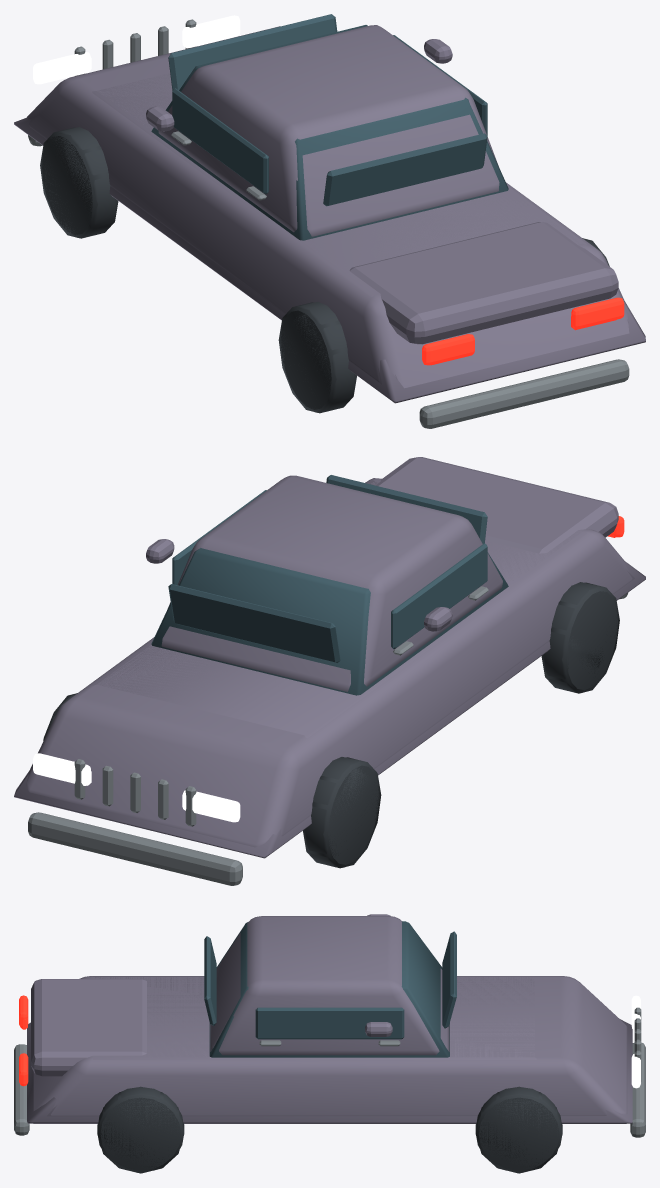
File: executive_sedan.glb
3 renders of one model, top to bottom at view 1: azimuth 30°, elevation 25°; view 2: azimuth 150°, elevation 25°; view 3: azimuth 270°, elevation 25°, orthographic. The views are drawn at different scales.
Visible parts, largest first — view 1: LOD0_executive_sedan_LowerBody, LOD0_executive_sedan_Cabin, LOD0_executive_sedan_Trunk, LOD1_executive_sedan_Body, LOD2_executive_sedan_Body, LOD2_executive_sedan_Upper, LOD0_executive_sedan_Wheel_RL, LOD0_executive_sedan_RearGlass, LOD0_executive_sedan_Wheel_FL, LOD0_executive_sedan_RearBumper, LOD0_executive_sedan_SideGlass_L, LOD0_executive_sedan_Windshield (+6 smaller); view 2: LOD0_executive_sedan_LowerBody, LOD0_executive_sedan_Cabin, LOD1_executive_sedan_Body, LOD2_executive_sedan_Upper, LOD0_executive_sedan_Trunk, LOD0_executive_sedan_Windshield, LOD0_executive_sedan_FrontBumper, LOD0_executive_sedan_Wheel_RL, LOD0_executive_sedan_Wheel_FL, LOD2_executive_sedan_Body, LOD0_executive_sedan_SideGlass_L, LOD1_executive_sedan_Wheel_FL (+5 smaller); view 3: LOD0_executive_sedan_LowerBody, LOD0_executive_sedan_Cabin, LOD0_executive_sedan_Trunk, LOD1_executive_sedan_Body, LOD0_executive_sedan_Wheel_FR, LOD0_executive_sedan_Wheel_RR, LOD2_executive_sedan_Upper, LOD2_executive_sedan_Body, LOD0_executive_sedan_SideGlass_R, LOD1_executive_sedan_Wheel_RR, LOD1_executive_sedan_Wheel_FR, LOD0_executive_sedan_Windshield (+4 smaller).
Boxes of the visible parts, x1,y1,x2,y2 form: LOD0_executive_sedan_LowerBody: (27,26,629,388); LOD0_executive_sedan_Cabin: (158,25,499,236); LOD0_executive_sedan_Trunk: (349,222,618,344); LOD1_executive_sedan_Body: (30,73,628,384); LOD2_executive_sedan_Body: (14,117,645,403); LOD2_executive_sedan_Upper: (151,25,508,240); LOD0_executive_sedan_Wheel_RL: (280,302,354,411); LOD0_executive_sedan_RearGlass: (323,133,487,206); LOD0_executive_sedan_Wheel_FL: (42,127,116,236); LOD0_executive_sedan_RearBumper: (419,359,629,428); LOD0_executive_sedan_SideGlass_L: (172,88,268,194); LOD0_executive_sedan_Windshield: (168,14,337,90); LOD0_executive_sedan_LowerBody: (26,478,632,847); LOD0_executive_sedan_Cabin: (161,475,502,691); LOD1_executive_sedan_Body: (92,480,634,835); LOD2_executive_sedan_Upper: (151,548,508,695); LOD0_executive_sedan_Trunk: (375,457,618,553); LOD0_executive_sedan_Windshield: (168,584,340,662); LOD0_executive_sedan_FrontBumper: (28,812,242,885); LOD0_executive_sedan_Wheel_RL: (543,582,617,691); LOD0_executive_sedan_Wheel_FL: (305,757,379,866); LOD2_executive_sedan_Body: (14,560,645,858); LOD0_executive_sedan_SideGlass_L: (391,543,487,649); LOD1_executive_sedan_Wheel_FL: (303,757,381,868); LOD0_executive_sedan_LowerBody: (33,976,627,1115); LOD0_executive_sedan_Cabin: (210,916,449,1055); LOD0_executive_sedan_Trunk: (31,979,146,1076); LOD1_executive_sedan_Body: (33,976,626,1123); LOD0_executive_sedan_Wheel_FR: (475,1087,562,1170); LOD0_executive_sedan_Wheel_RR: (97,1087,184,1170); LOD2_executive_sedan_Upper: (209,921,449,1057); LOD2_executive_sedan_Body: (27,1019,632,1123); LOD0_executive_sedan_SideGlass_R: (255,1007,404,1039); LOD1_executive_sedan_Wheel_RR: (97,1086,184,1173); LOD1_executive_sedan_Wheel_FR: (475,1086,562,1173); LOD0_executive_sedan_Windshield: (442,931,456,1028).
Size of what is drawn, in the model's own units: 2.24 by 1.55 by 5.23.
